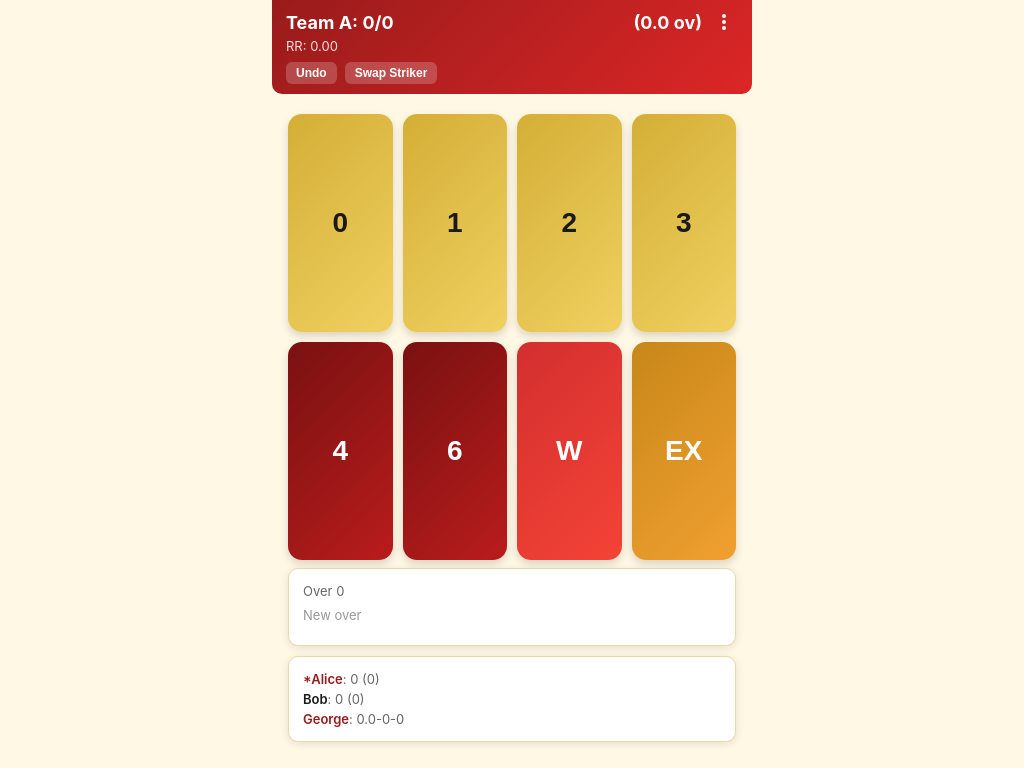
it: ScoringV2 - scoring core › records a wicket via the wicket sheet
The width and height of the screenshot is (1024, 768).
Click the button "W" at [569, 451], box [517, 342, 622, 560]
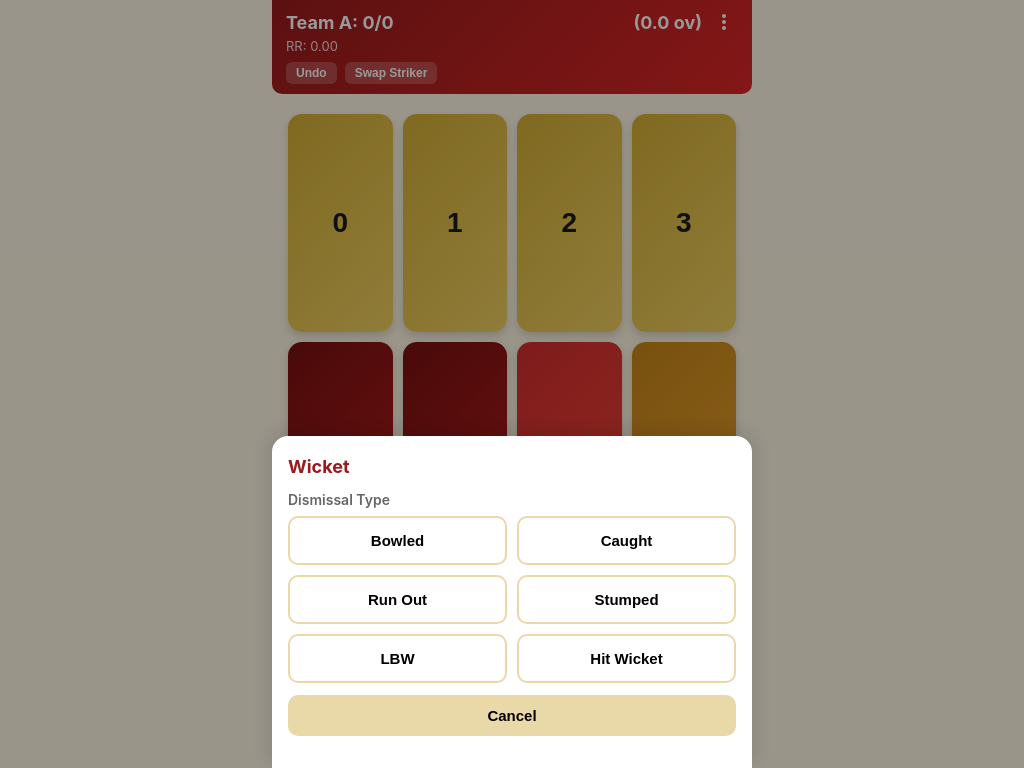
Click the button "Bowled" at [398, 540], box [288, 516, 507, 565]
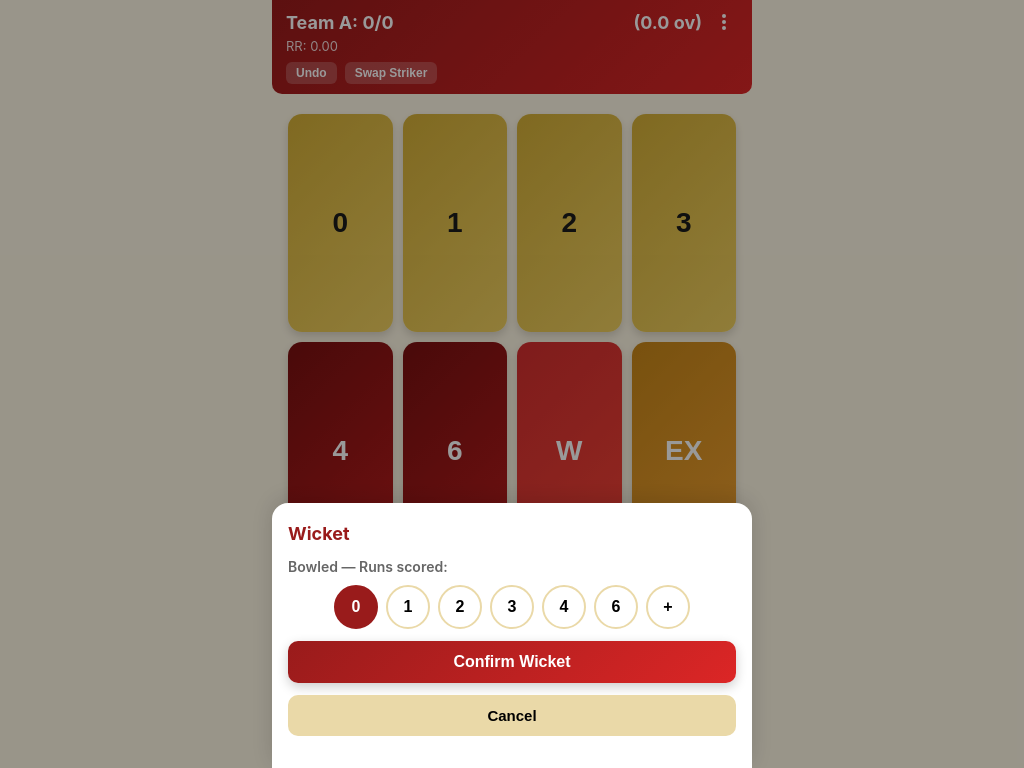
Click the button "Confirm Wicket" at [512, 662], box [288, 641, 736, 683]
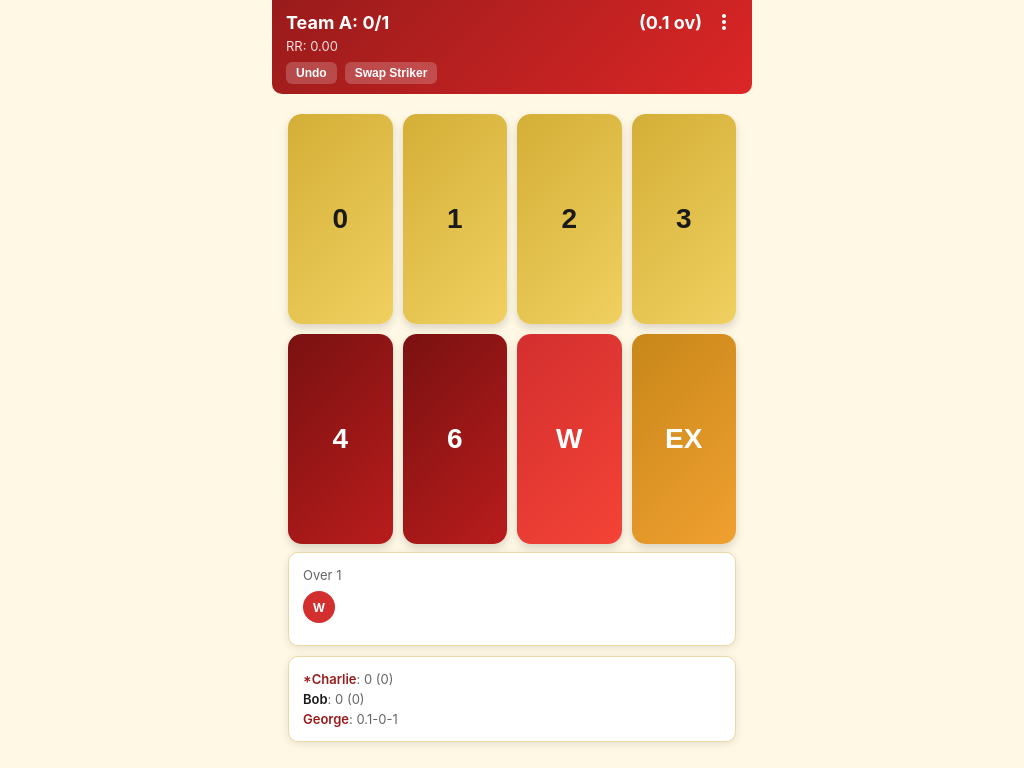
Expected: the text "Team A: 0/1" is shown, [286, 12, 389, 32]
